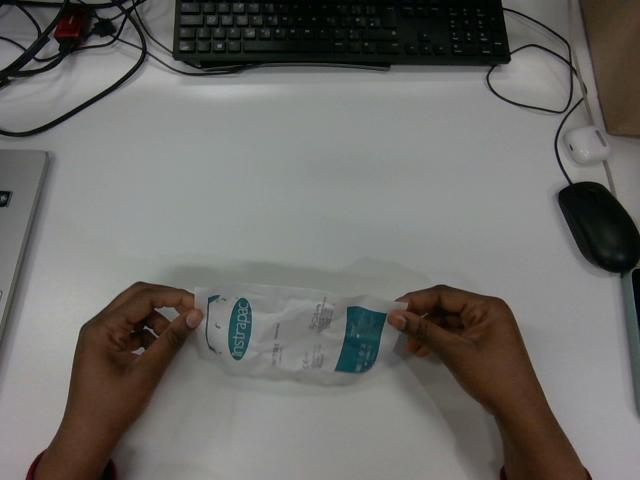gallipot: (195, 284, 406, 383)
